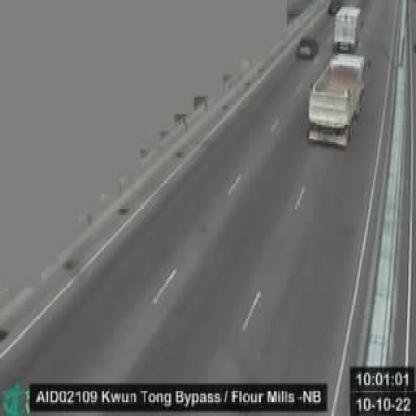Car: (297, 38, 319, 58), (328, 1, 343, 15)
Truck: (308, 55, 367, 150), (333, 3, 361, 51)
